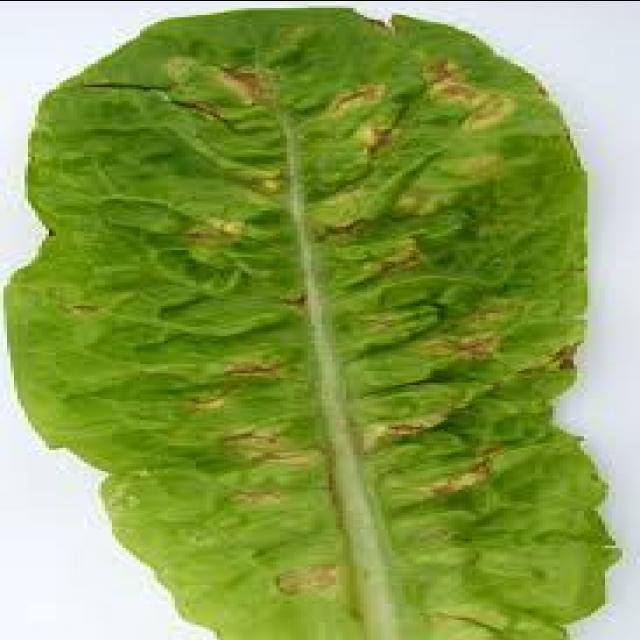Lettuce: (1, 5, 634, 640)
